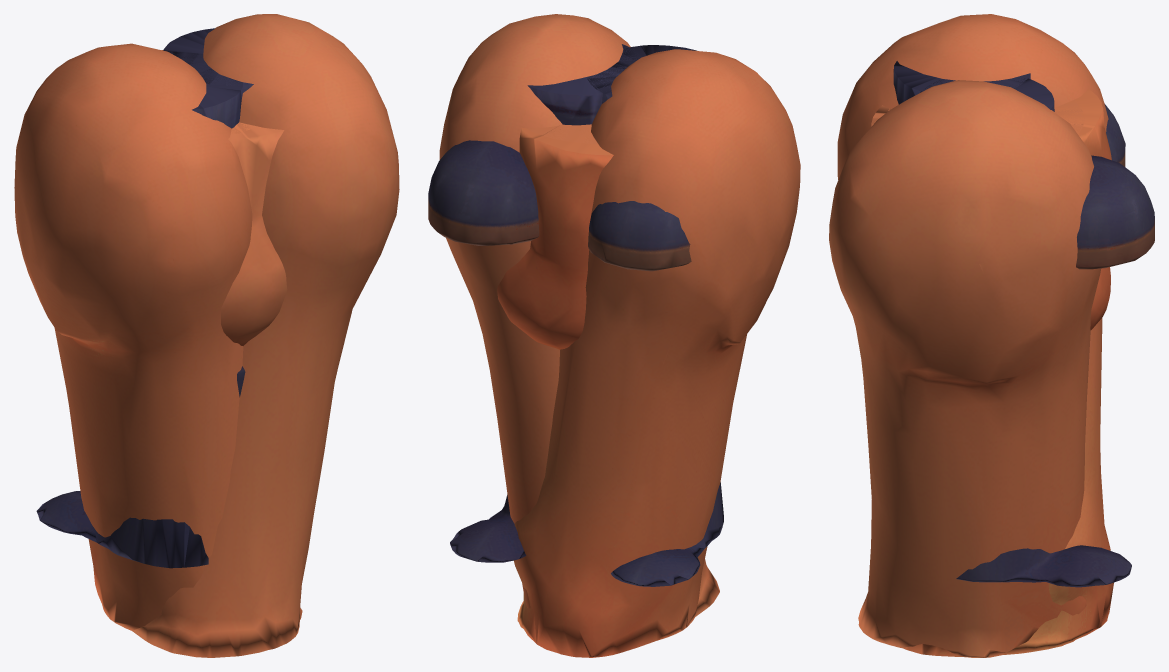
Rendered from legs-sensei3.glb.
3 renders of one model, left to right at view 1: azimuth 30°, elevation 25°; view 2: azimuth 150°, elevation 25°; view 3: azimuth 270°, elevation 25°, orthographic.
Parts seen in each view (by area): view 1: thighR__rbx, thighL__rbx, kneeL__rbx, ankleL__rbx, ankleR__rbx; view 2: thighR__rbx, thighL__rbx, kneeR__rbx, ankleR__rbx, ankleL__rbx, kneeL__rbx; view 3: thighL__rbx, thighR__rbx, kneeR__rbx, ankleR__rbx, ankleL__rbx, kneeL__rbx.
Boxes of the visible parts, x1,y1,x2,y2 form: thighR__rbx: [14, 43, 302, 630]; thighL__rbx: [132, 14, 399, 657]; kneeL__rbx: [36, 122, 287, 568]; ankleL__rbx: [169, 51, 242, 128]; ankleR__rbx: [163, 28, 253, 92]; thighR__rbx: [514, 49, 800, 657]; thighL__rbx: [439, 14, 719, 616]; kneeR__rbx: [450, 125, 613, 562]; ankleR__rbx: [428, 44, 640, 245]; ankleL__rbx: [587, 45, 696, 271]; kneeL__rbx: [526, 124, 723, 586]; thighL__rbx: [829, 80, 1100, 657]; thighR__rbx: [837, 14, 1113, 656]; kneeR__rbx: [888, 89, 1131, 587]; ankleR__rbx: [920, 78, 1154, 269]; ankleL__rbx: [893, 61, 1125, 166]; kneeL__rbx: [871, 100, 1084, 133].
Bounding box in the file's own units: 0.2584 × 0.425 × 0.2228.
Materials: 2 (2 with a texture image).
